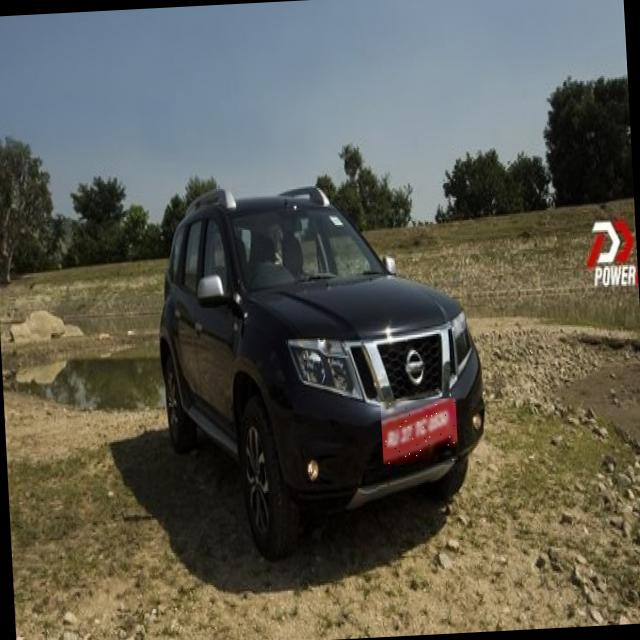Plate: (382, 399, 460, 465)
